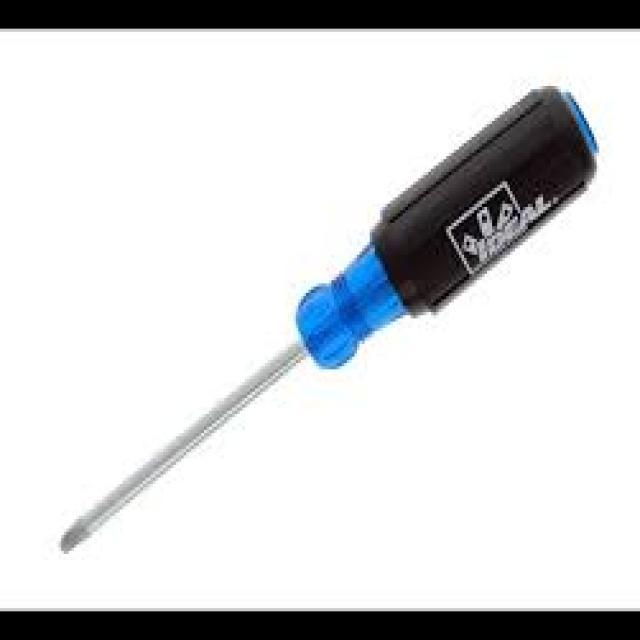screwdriver: (48, 83, 602, 554)
